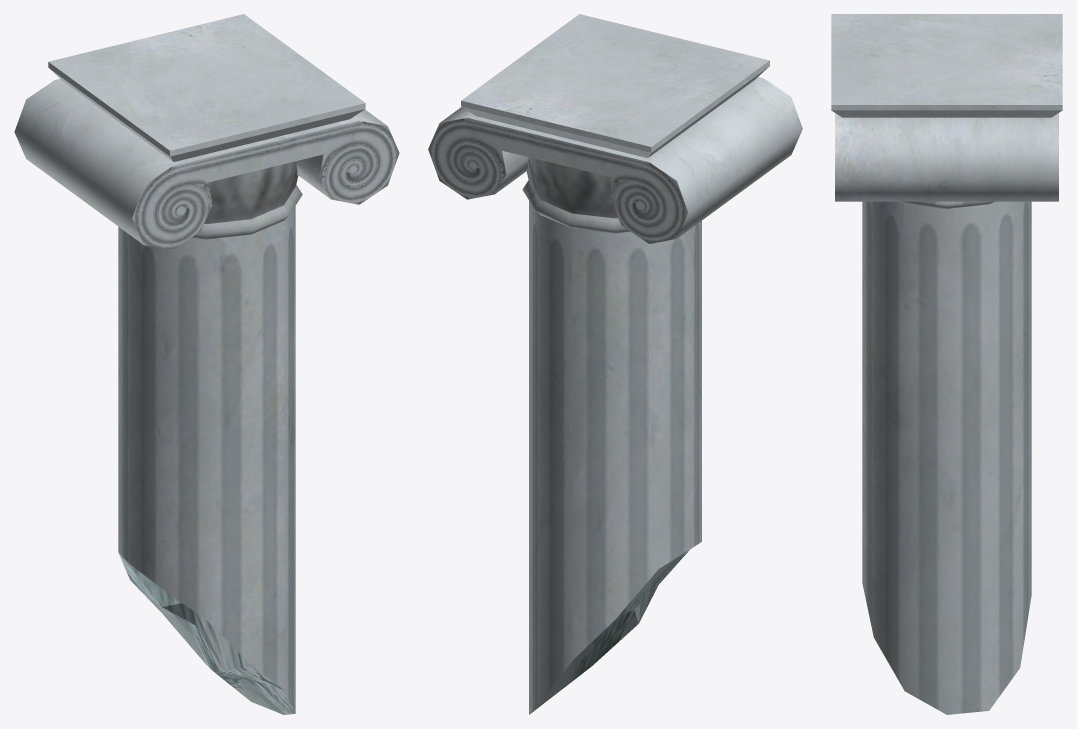
File: ColumnBroken2.fbx
3 renders of one model, left to right at view 1: azimuth 30°, elevation 25°; view 2: azimuth 150°, elevation 25°; view 3: azimuth 270°, elevation 25°, orthographic. The views are drawn at different scales.
Parts seen in each view (by area): view 1: Broken_Pillar2; view 2: Broken_Pillar2; view 3: Broken_Pillar2.
Part boxes in pixels (x1,y1,x2,y2): Broken_Pillar2: (14, 14, 399, 714); Broken_Pillar2: (428, 14, 802, 714); Broken_Pillar2: (831, 14, 1062, 714).
Bounding box in the file's own units: 0.998 × 2.32 × 0.7863.
